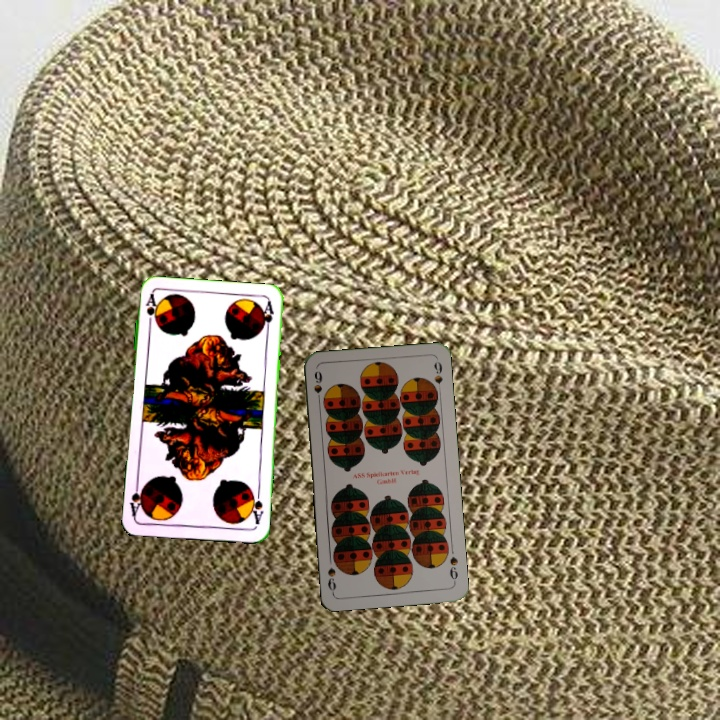S9: (310, 367, 325, 407), (446, 553, 460, 586)
SA: (246, 487, 266, 527), (142, 290, 160, 331)
